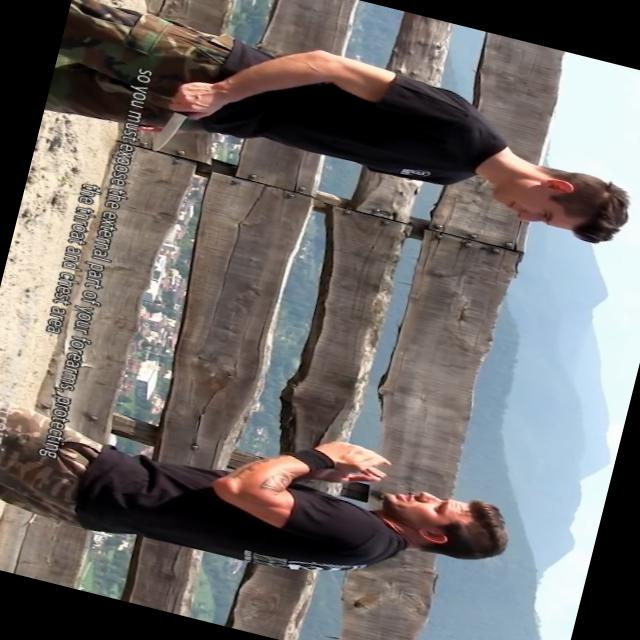knife: (140, 70, 219, 169)
